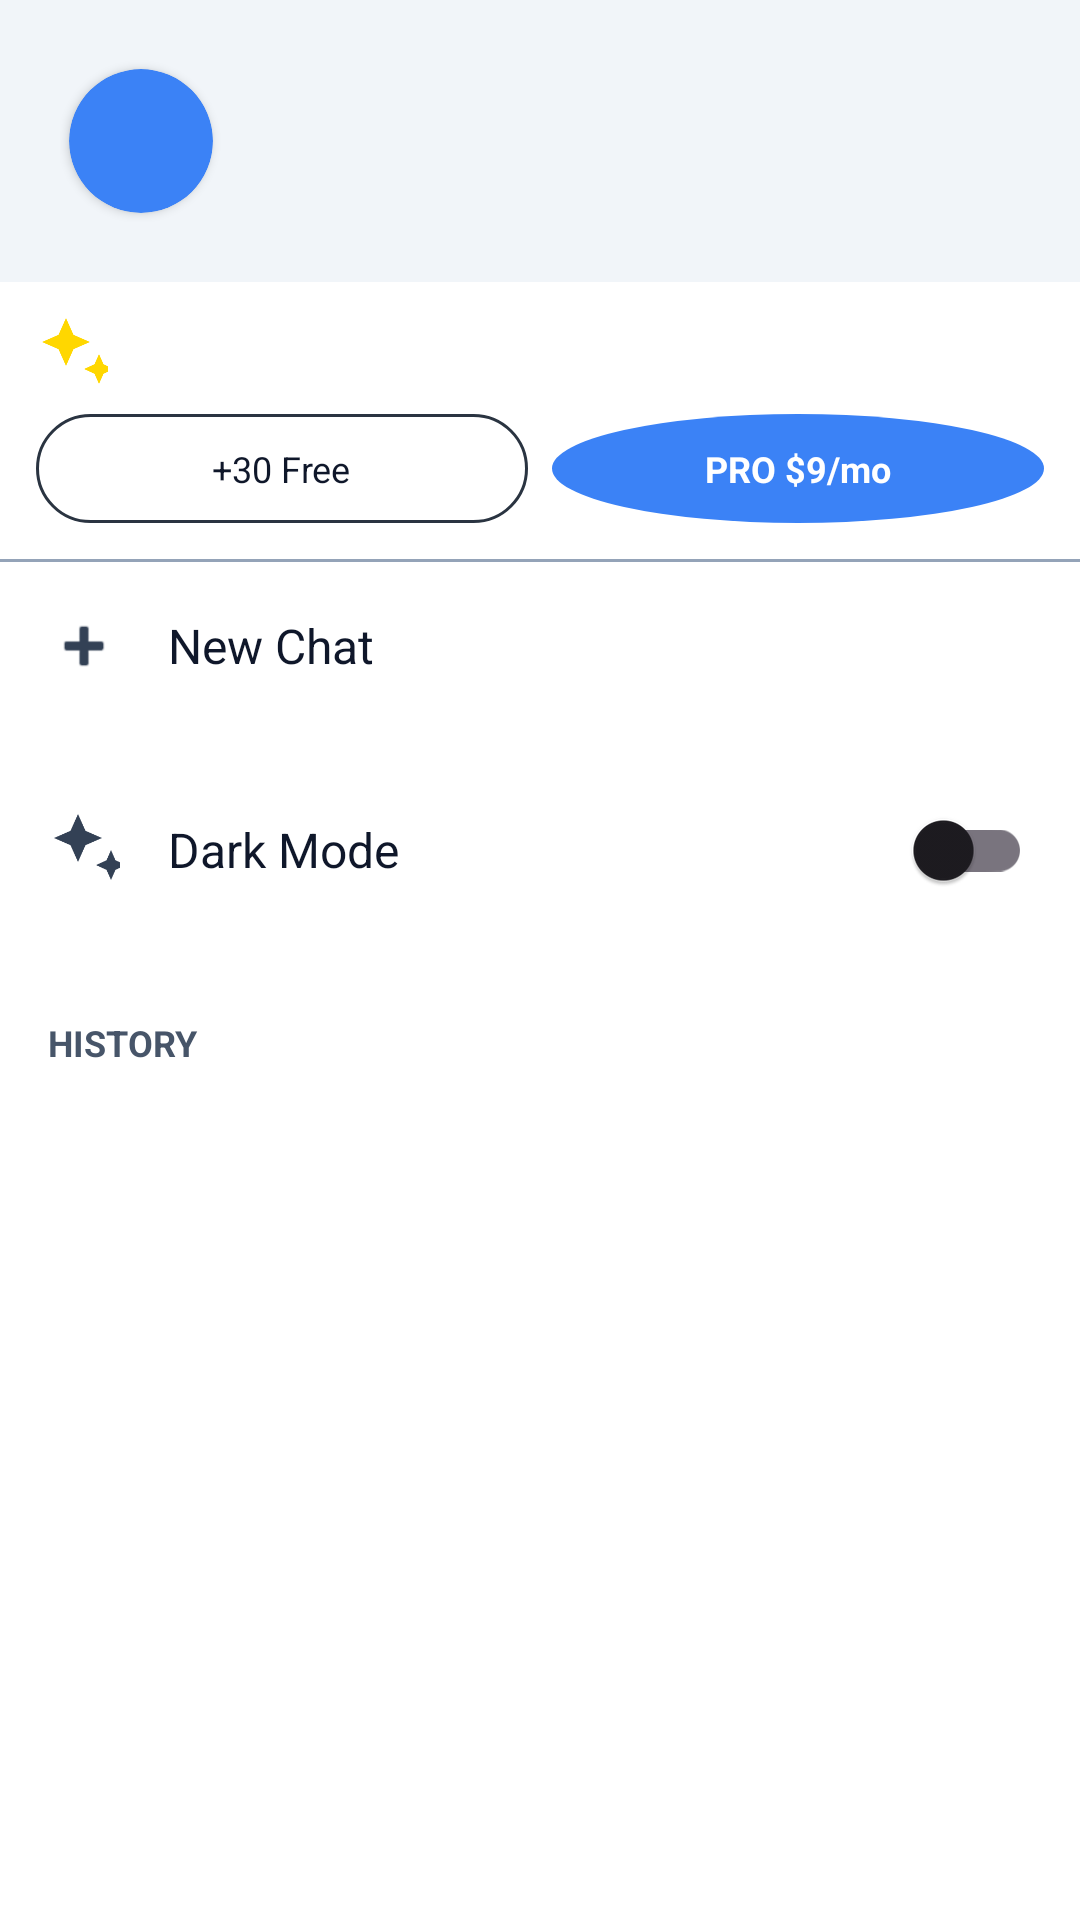

Point at icon controls on the screen. Image size 1080x1920, points as [x,y].
add: [84,646]
custom magic: [75,350], [87,847]
